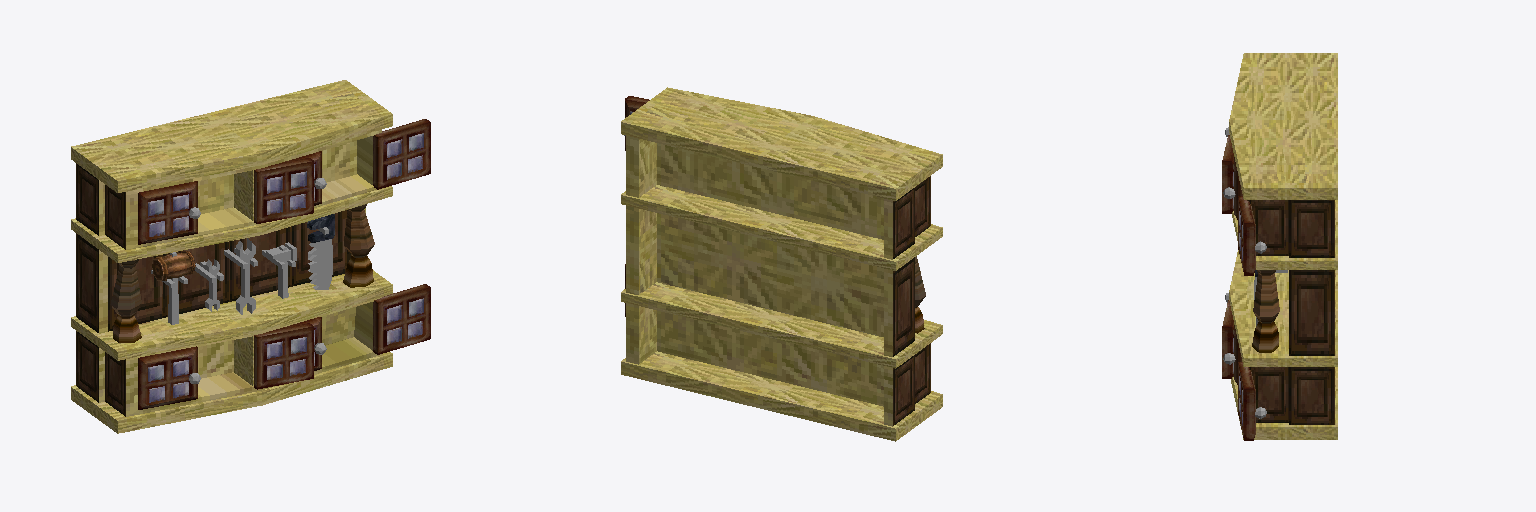
The picture shows the model from 3 angles: view 1: azimuth 30°, elevation 25°; view 2: azimuth 150°, elevation 25°; view 3: azimuth 270°, elevation 25°; orthographic projection.
Parts seen in each view (by area): view 1: part1_texture1, part6_texture1, part8_texture6, part7_texture6, part0_texture0, part1_texture7.005, part1_texture7.001, part1_texture7.003, part1_texture7.007, part1_texture7, part1_texture7.004, part4_texture4 (+3 smaller); view 2: part1_texture1, part6_texture1, part7_texture6, part0_texture0; view 3: part1_texture1, part7_texture6, part0_texture0, part1_texture7.007, part1_texture7.003, part1_texture7.005, part1_texture7.001.
Boxes of the visible parts, x1=… form: part1_texture1: x1=71, y1=80, x2=392, y2=433; part6_texture1: x1=99, y1=130, x2=381, y2=416; part8_texture6: x1=108, y1=210, x2=351, y2=331; part7_texture6: x1=76, y1=163, x2=125, y2=416; part0_texture0: x1=110, y1=204, x2=374, y2=342; part1_texture7.005: x1=254, y1=158, x2=313, y2=223; part1_texture7.001: x1=254, y1=323, x2=313, y2=389; part1_texture7.003: x1=373, y1=284, x2=430, y2=354; part1_texture7.007: x1=373, y1=119, x2=430, y2=189; part1_texture7: x1=138, y1=346, x2=197, y2=409; part1_texture7.004: x1=138, y1=181, x2=197, y2=244; part4_texture4: x1=205, y1=238, x2=332, y2=314; part1_texture1: x1=621, y1=87, x2=942, y2=441; part6_texture1: x1=626, y1=136, x2=892, y2=426; part7_texture6: x1=893, y1=176, x2=930, y2=425; part0_texture0: x1=915, y1=256, x2=925, y2=333; part1_texture1: x1=1229, y1=53, x2=1337, y2=439; part7_texture6: x1=1247, y1=200, x2=1334, y2=424; part0_texture0: x1=1252, y1=270, x2=1279, y2=352; part1_texture7.007: x1=1238, y1=196, x2=1255, y2=275; part1_texture7.003: x1=1238, y1=362, x2=1255, y2=440; part1_texture7.005: x1=1222, y1=135, x2=1233, y2=213; part1_texture7.001: x1=1222, y1=300, x2=1233, y2=378.
Bounding box in the file's own units: 1.67 × 1.29 × 0.5321.
Materials: 10 (6 with a texture image).